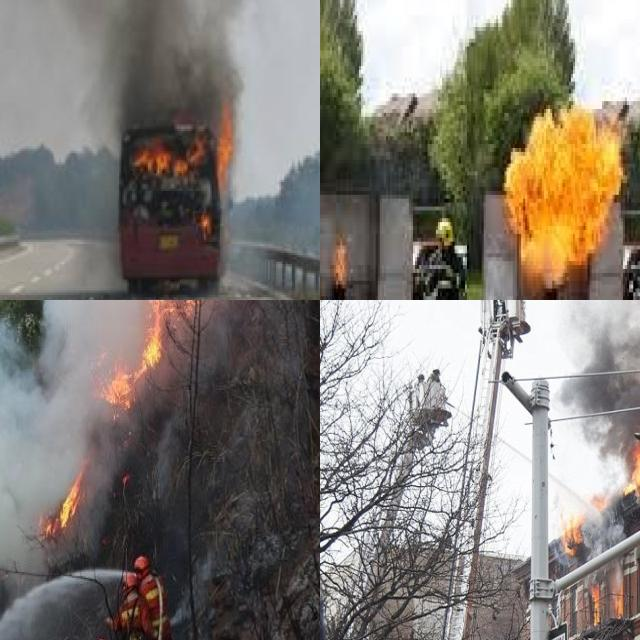fire: (498, 101, 625, 277), (104, 300, 292, 408), (115, 91, 238, 238), (37, 460, 90, 536), (561, 493, 601, 552), (322, 230, 348, 296), (621, 433, 640, 499), (609, 568, 623, 618), (588, 579, 600, 626), (634, 555, 640, 609)
smoke: (0, 300, 255, 640), (0, 0, 320, 124), (559, 300, 640, 457), (586, 518, 624, 550)
